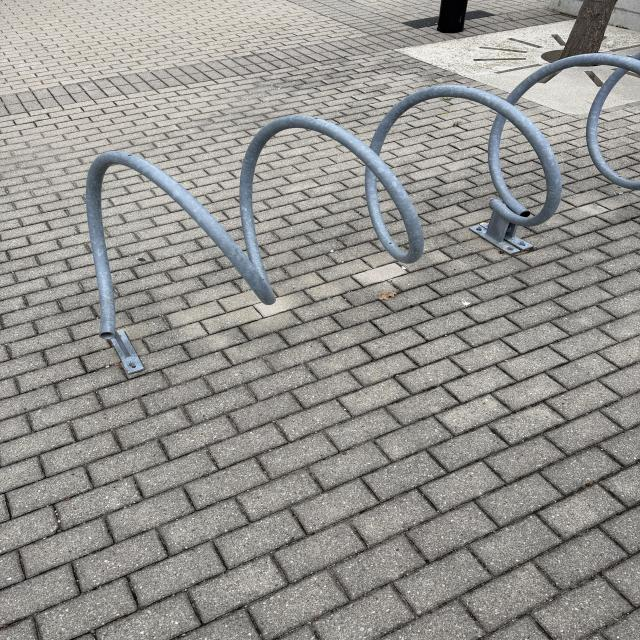Bicycle Rack: (93, 52, 640, 378)
